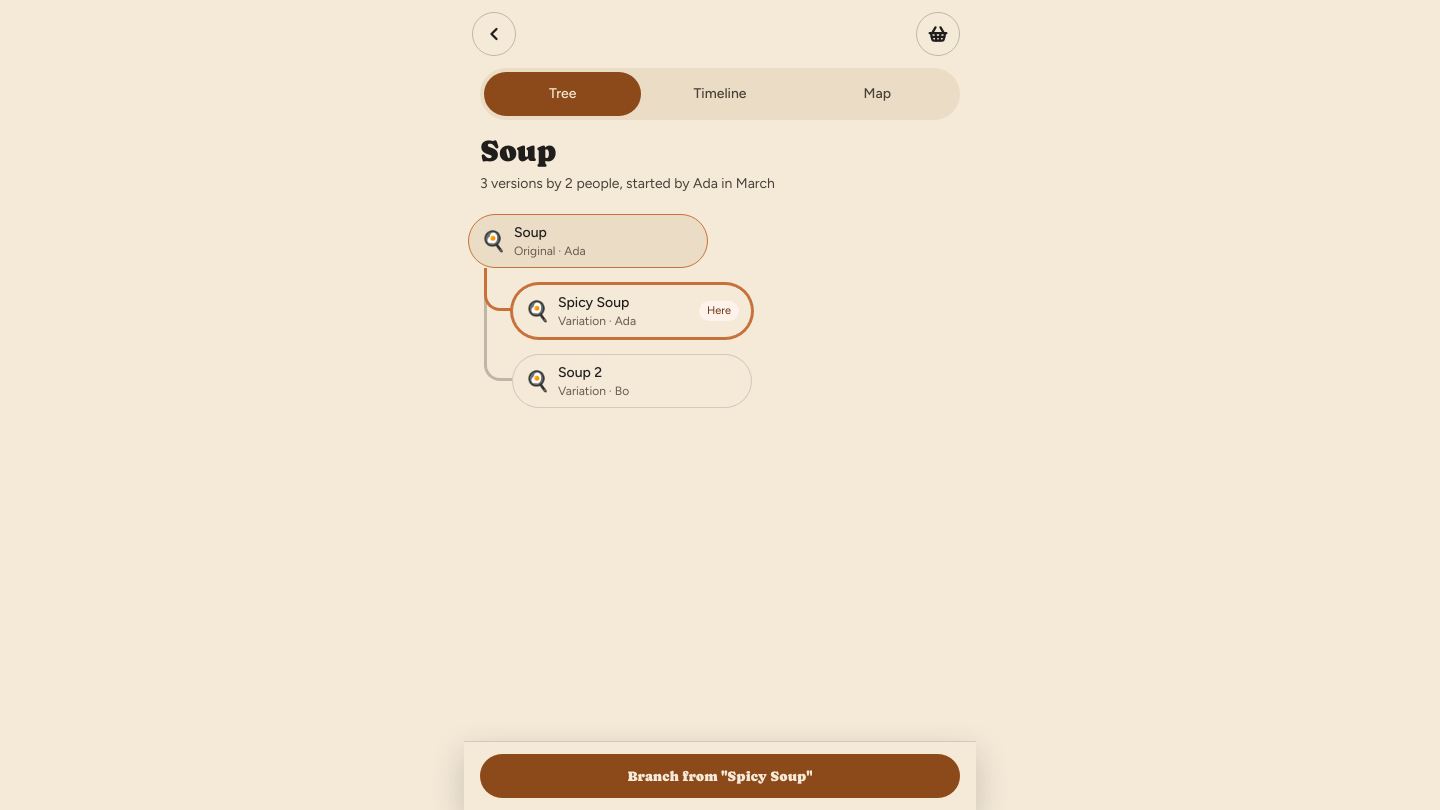
Test case: VersionTreePage › says so when the add fails
The width and height of the screenshot is (1440, 810).
Click the button named "Add to shopping list": (938, 34) [916, 12, 960, 56]
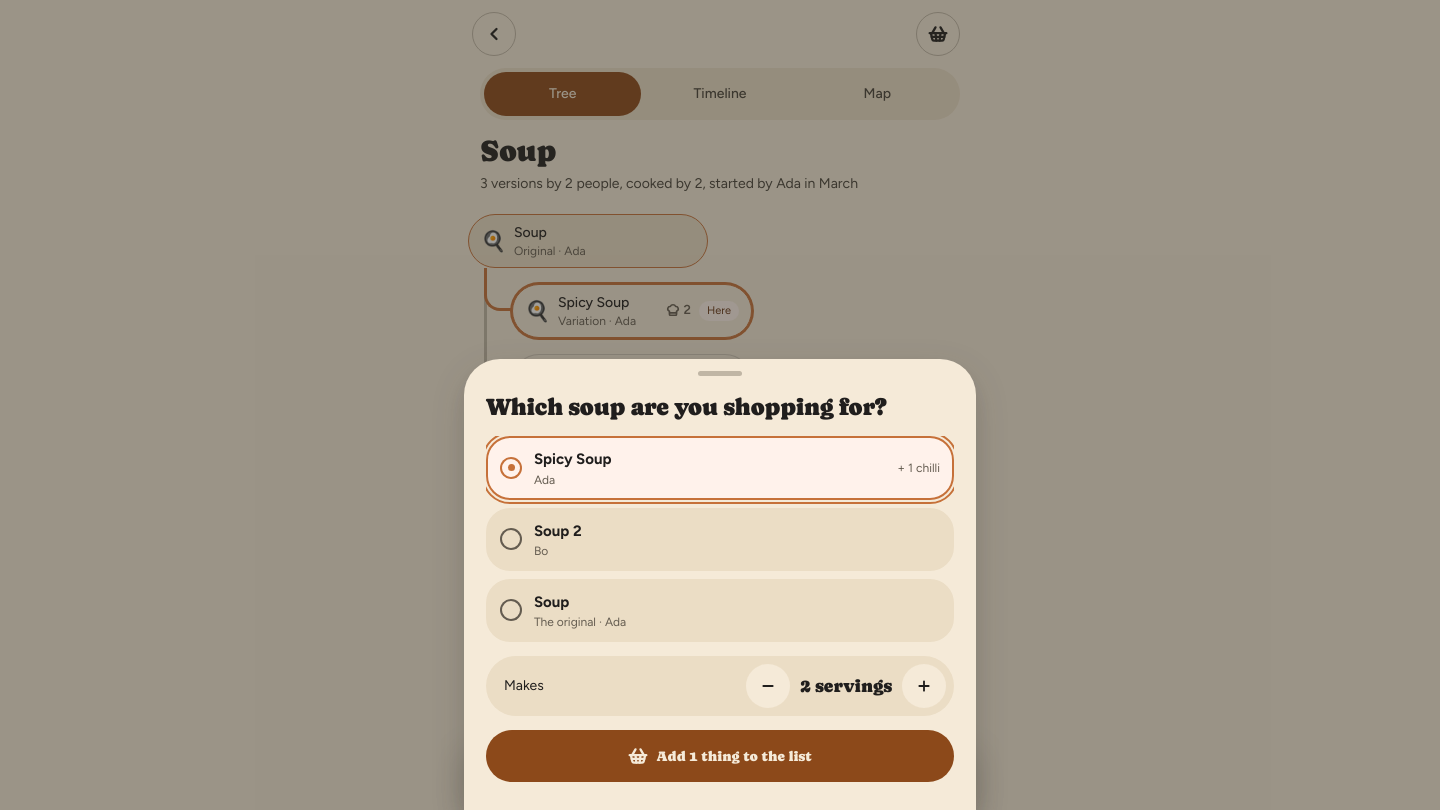
Click the button "Add 1 thing to the list": (720, 756) [486, 730, 954, 782]
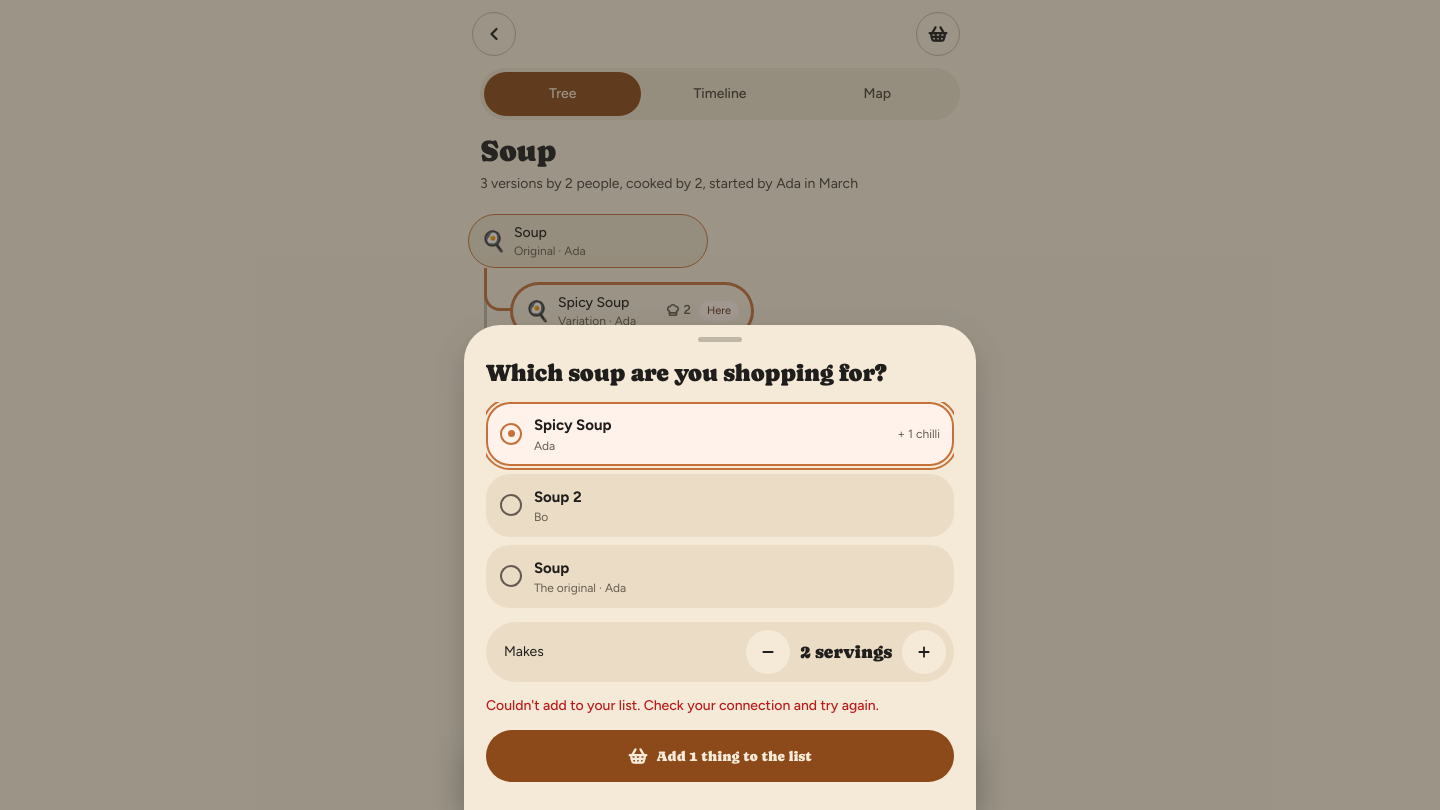
Check: the element named "shopping for" is shown, box [486, 402, 954, 608]
Check: the message reads "Couldn't add to your list. Check your connection and try again.", box [486, 697, 879, 714]
